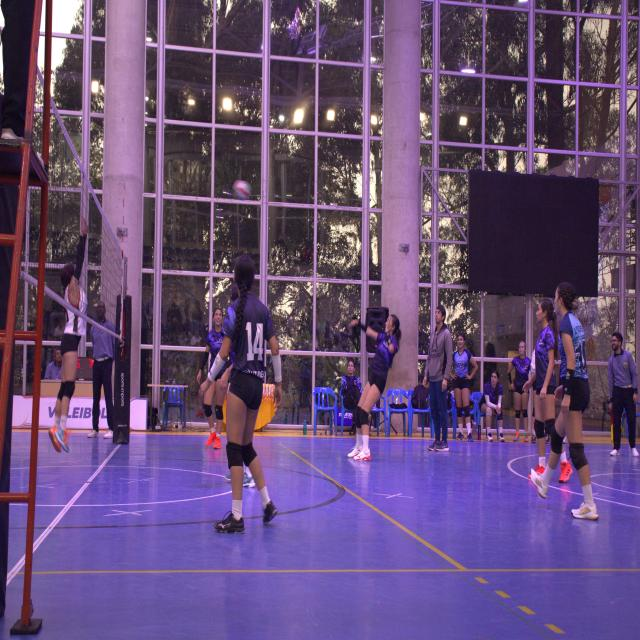volleyball: (232, 180, 251, 200)
